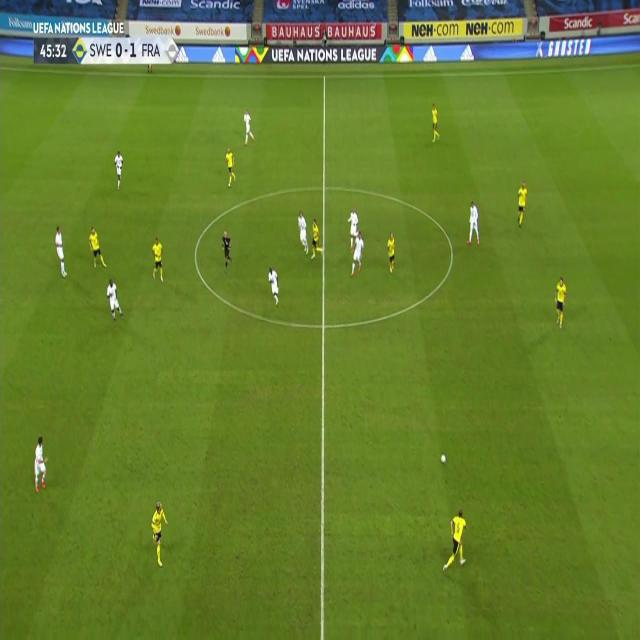ball: (440, 452, 448, 466)
player: (442, 508, 471, 578), (150, 500, 168, 570), (105, 278, 125, 324), (33, 437, 49, 492), (53, 224, 69, 277), (88, 226, 107, 268), (349, 230, 365, 278), (515, 178, 529, 228), (467, 201, 482, 247), (150, 238, 164, 286), (554, 278, 566, 332), (346, 206, 359, 252), (296, 210, 309, 255), (309, 220, 324, 258), (223, 146, 237, 186), (267, 266, 281, 306), (428, 102, 441, 143), (241, 110, 255, 148), (221, 230, 233, 274), (387, 230, 397, 276), (114, 151, 124, 193)
